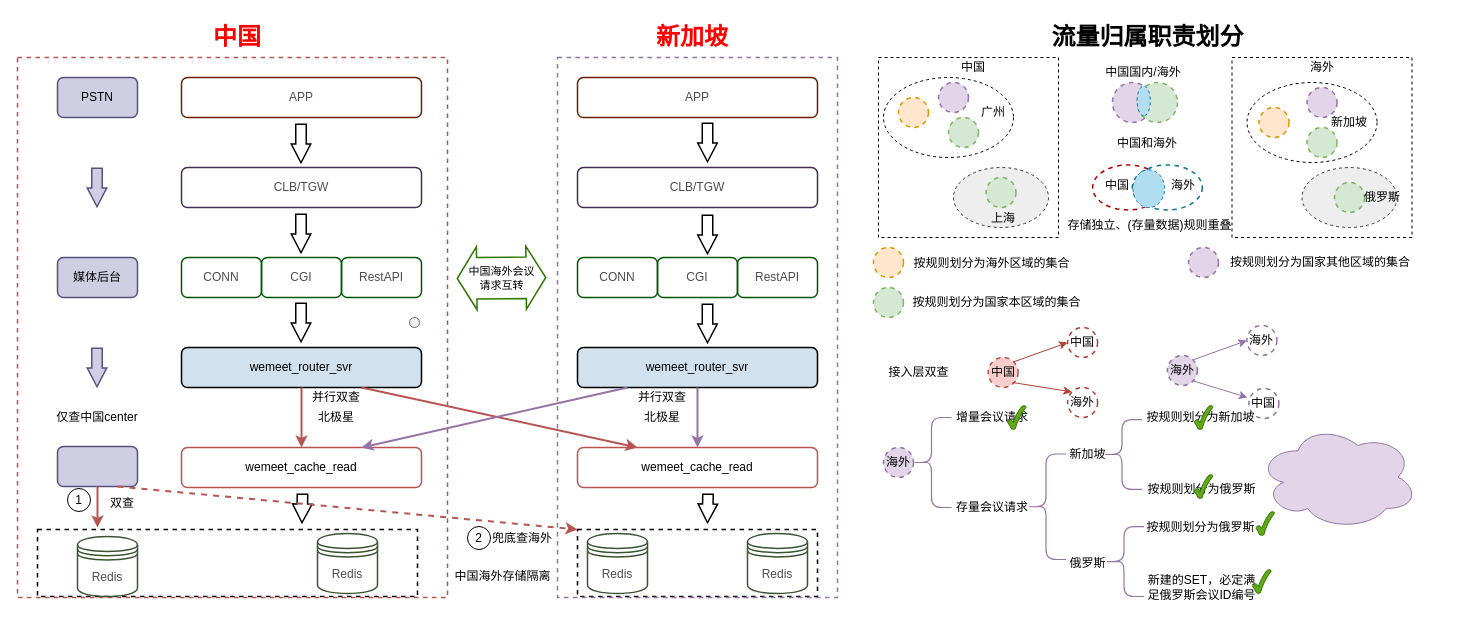
Some shapes in this 1475 by 624 pixel diagram are drawn without their labels. Each missing label, with the centre of its shape:
center: the point at 97,466
合规：不能跨国迁移 先查俄罗斯，查不到则查新加坡兜底，因为可能是存量数据: the point at 1337,477
